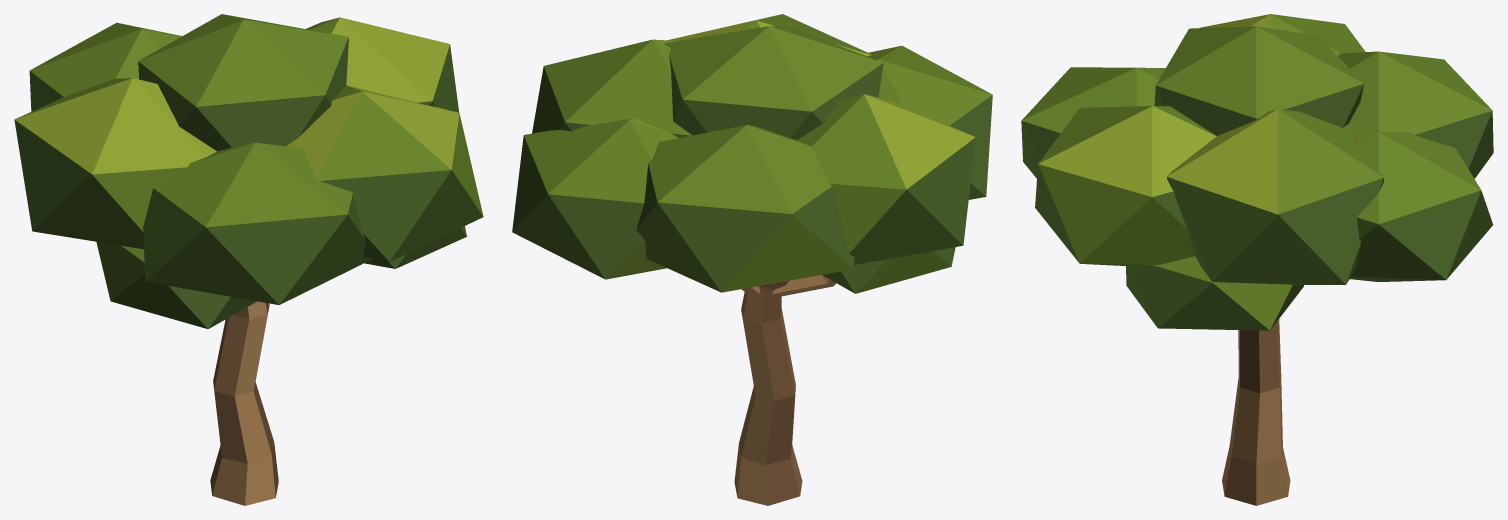
File: tree_round_a_far.glb
3 renders of one model, left to right at view 1: azimuth 30°, elevation 25°; view 2: azimuth 150°, elevation 25°; view 3: azimuth 270°, elevation 25°, orthographic.
Parts seen in each view (by area): view 1: body; view 2: body; view 3: body.
Boxes of the visible parts, x1,y1,x2,y2 form: body: (14,14,483,505); body: (512,14,992,505); body: (1021,14,1493,505).
Size of the model in its own units: 4.98 by 5.31 by 4.91.
